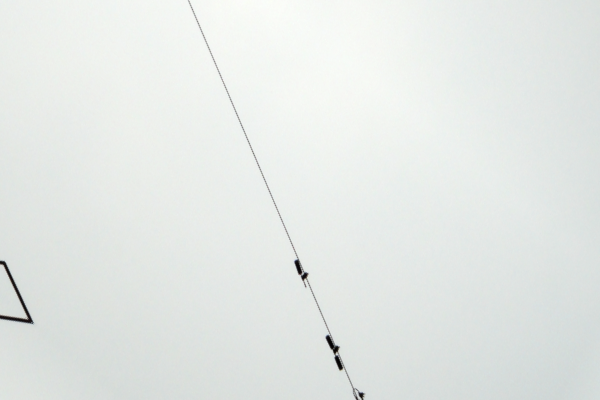damper: (323, 333, 344, 373)
damper_defect: (293, 258, 311, 291)
